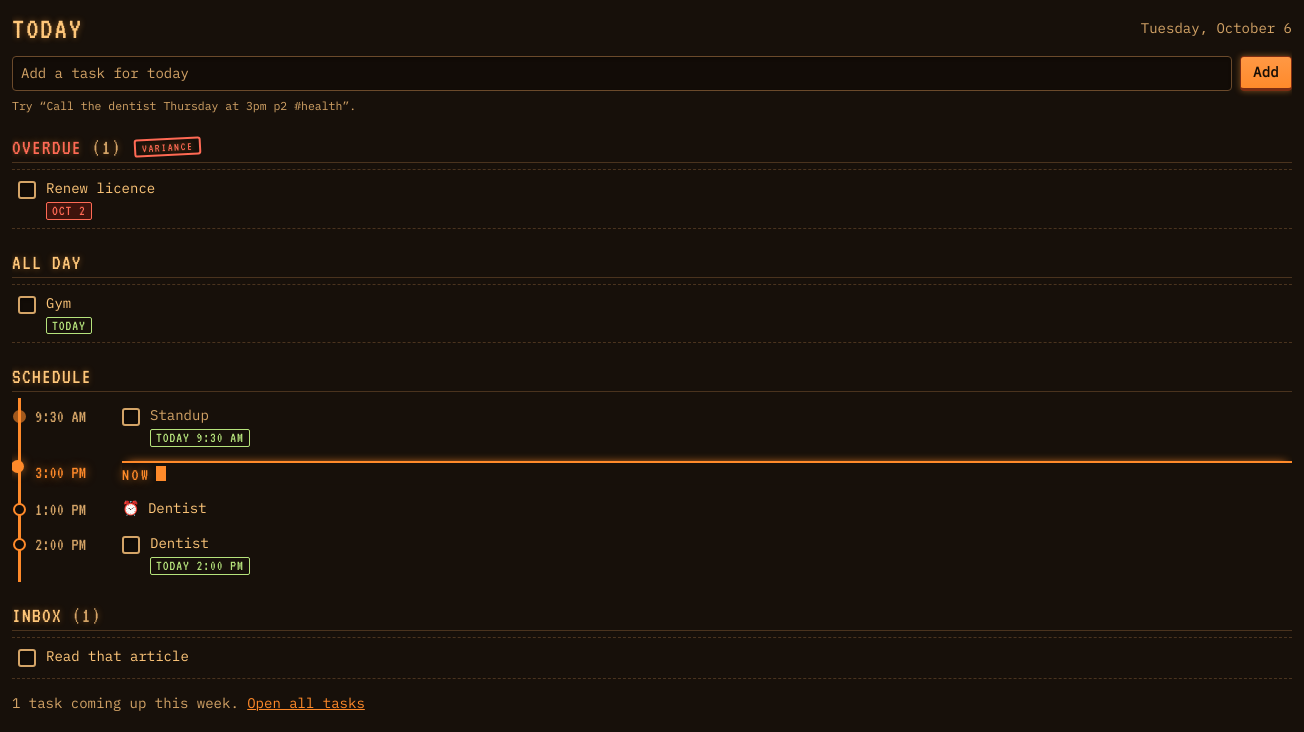
Test: TodayView › completes an overdue task from Today
This screenshot has width=1304, height=732.
Expected: the button "Standup" is shown, [150,405,209,426]
Click the checkbox named "Complete \"Renew licence\"" at (27, 190), box [18,181,36,199]
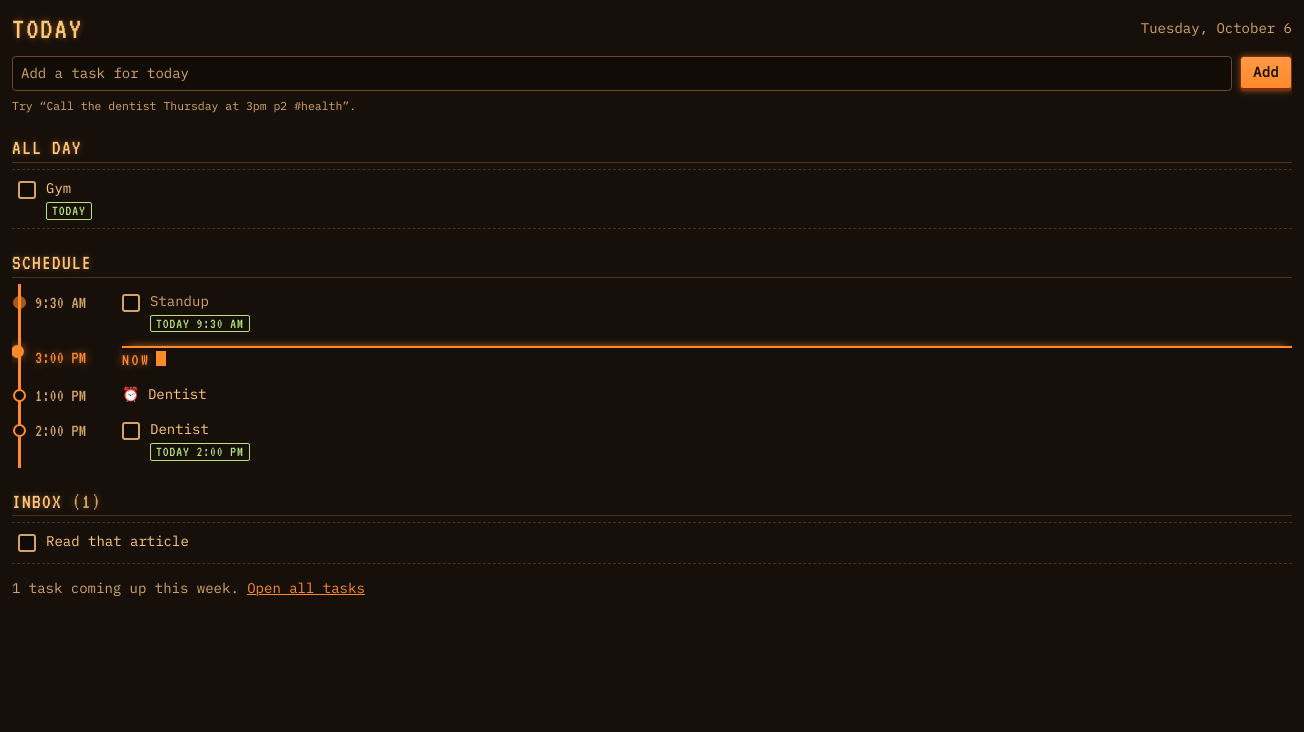
Now the heading "Overdue" is gone
